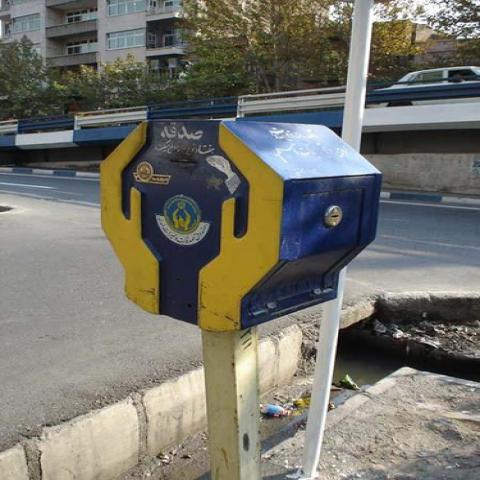car: (373, 65, 478, 92)
